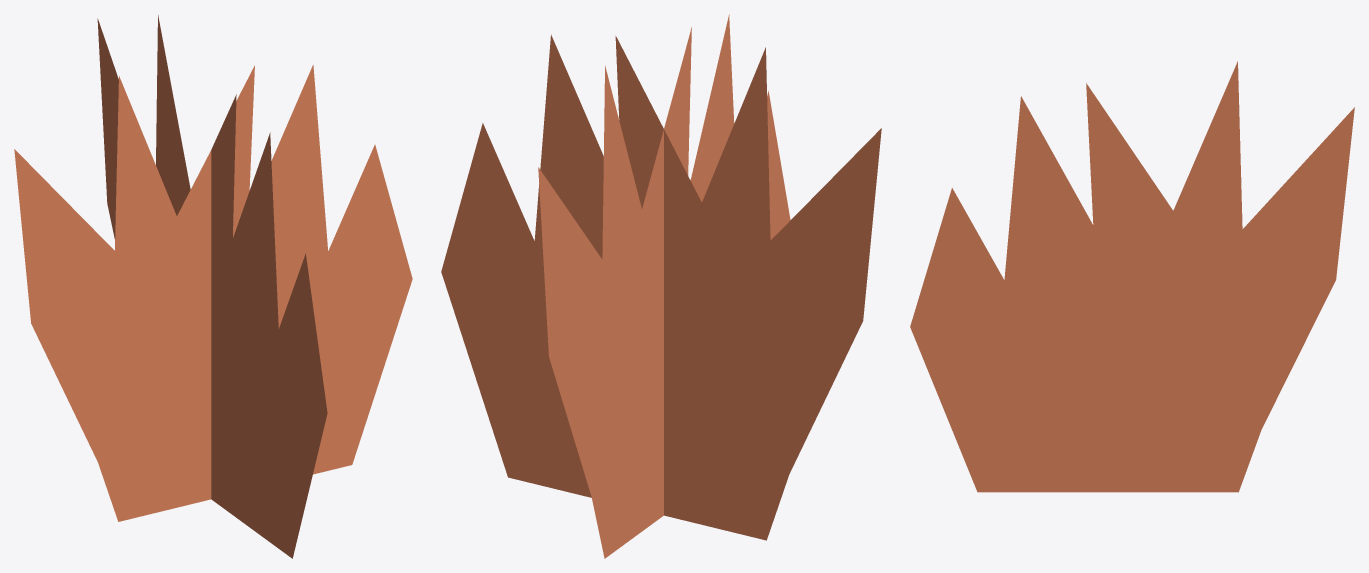
File: fire3.glb
The picture shows the model from 3 angles, left to right: view 1: azimuth 30°, elevation 25°; view 2: azimuth 150°, elevation 25°; view 3: azimuth 270°, elevation 25°; orthographic projection. The views are drawn at different scales.
Parts seen in each view (by area): view 1: Plane; view 2: Plane; view 3: Plane.
Part boxes in pixels (<box>): Plane: <box>14,15,412,558</box>; Plane: <box>441,14,881,558</box>; Plane: <box>910,61,1354,492</box>.
Size of the model in its own units: 1.59 by 1.7 by 1.59.
